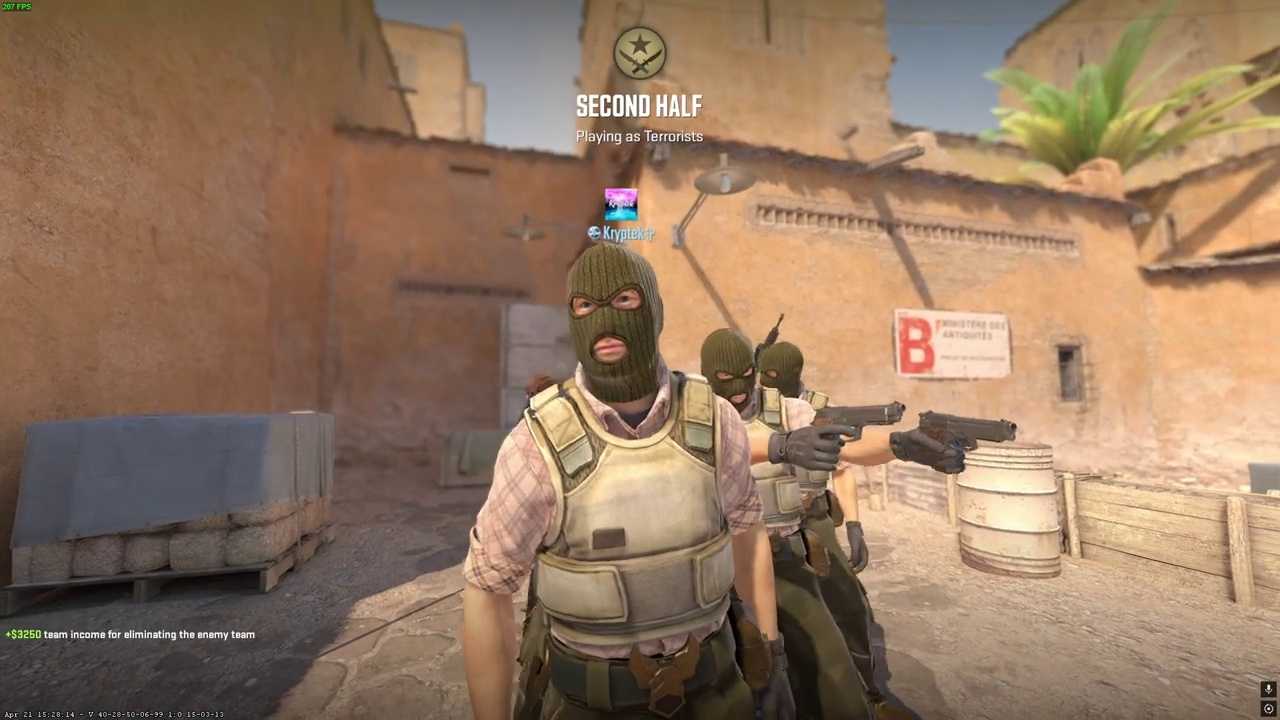Terrorist: (460, 242, 776, 719), (700, 330, 815, 720), (763, 343, 870, 621)
